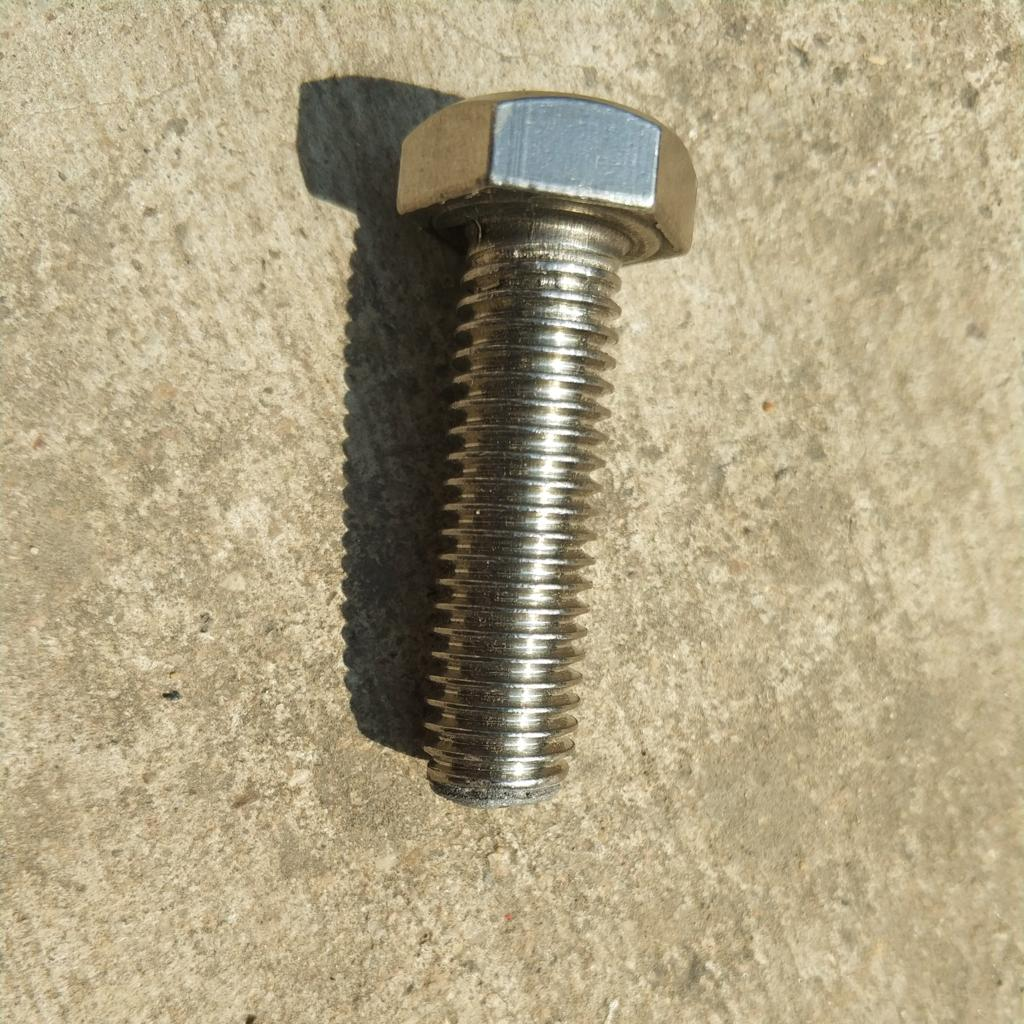screwtype2silver: (382, 85, 707, 818)
